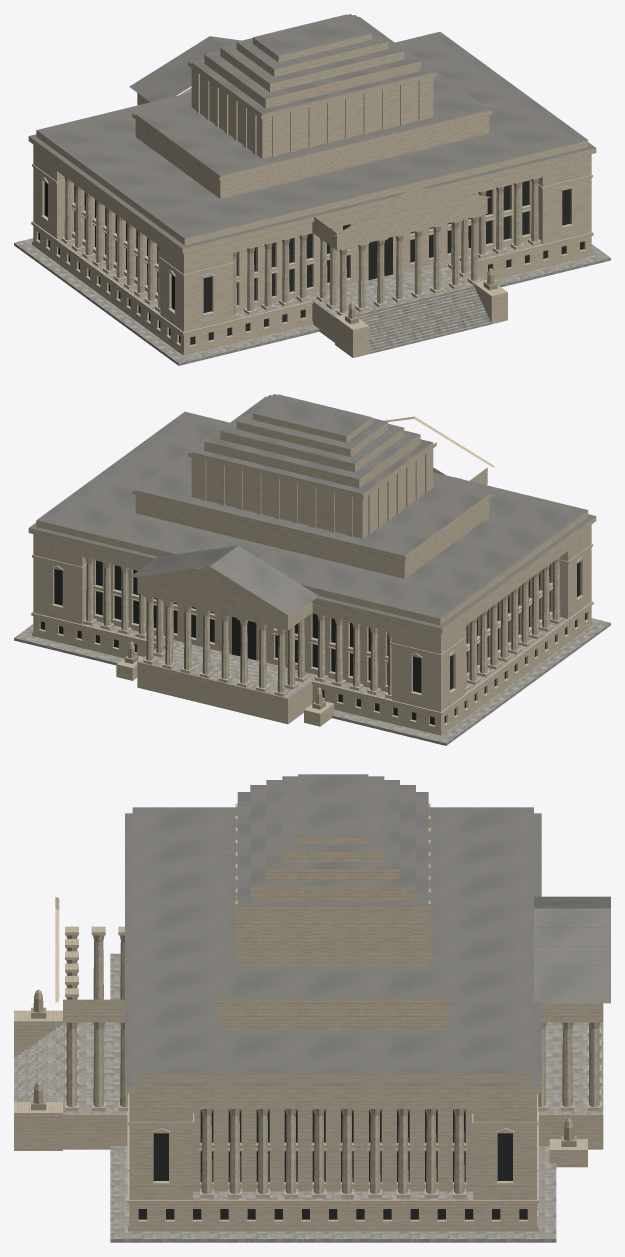
Rendered from national_archives.glb.
3 renders of one model, top to bottom at view 1: azimuth 30°, elevation 25°; view 2: azimuth 150°, elevation 25°; view 3: azimuth 270°, elevation 25°, orthographic. The views are drawn at different scales.
Parts seen in each view (by area): view 1: national_archives; view 2: national_archives; view 3: national_archives.
Part boxes in pixels (x1,y1,x2,y2): national_archives: (14,14,610,365); national_archives: (14,394,610,745); national_archives: (14,774,610,1242).
Size of the model in its own units: 106 by 51 by 93.71.
Materials: 5 (5 with a texture image).
